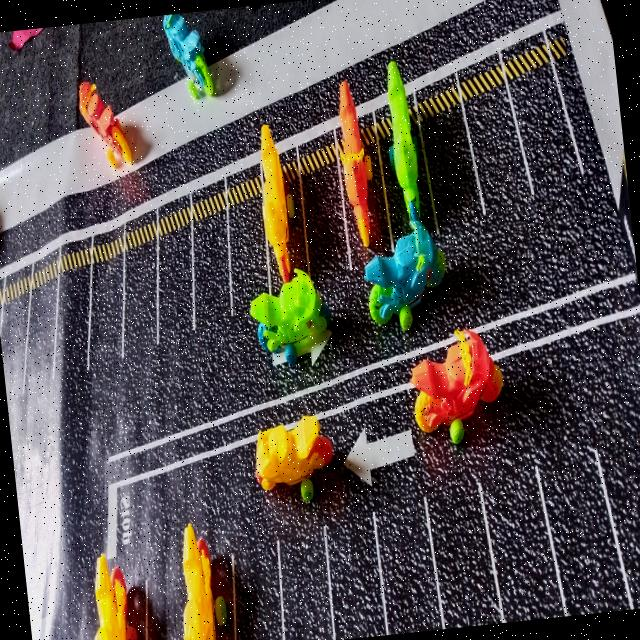bikes: (410, 329, 502, 444), (364, 220, 445, 328), (250, 268, 330, 363), (256, 415, 333, 501), (78, 81, 133, 167), (163, 13, 214, 98)
occupied: (333, 80, 390, 274), (378, 60, 433, 243), (260, 124, 309, 293), (183, 523, 235, 640), (94, 553, 147, 640)
others: (618, 154, 638, 280), (9, 27, 42, 50)
slots: (535, 446, 628, 614), (481, 461, 563, 619), (422, 471, 501, 626), (375, 482, 442, 632), (509, 65, 581, 199), (464, 85, 531, 218), (598, 411, 640, 606), (421, 106, 482, 233), (327, 514, 385, 638), (301, 156, 350, 274), (280, 532, 331, 640), (228, 197, 269, 316), (235, 540, 282, 640), (193, 209, 231, 327), (53, 265, 89, 377), (123, 240, 157, 357), (90, 255, 123, 365), (158, 227, 193, 330), (25, 278, 57, 381), (145, 555, 183, 640), (0, 293, 29, 393)
